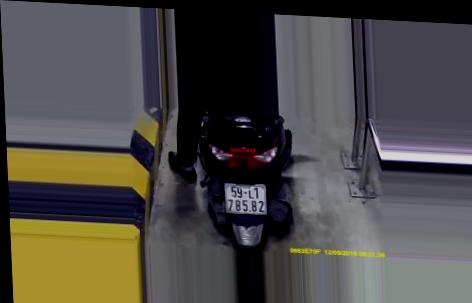License_Plate: (221, 180, 271, 219)
